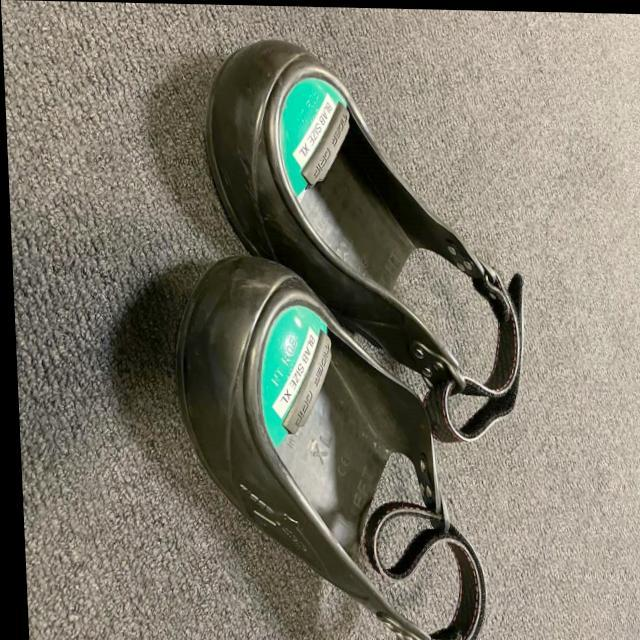shoes: (203, 32, 532, 409), (182, 263, 486, 640)
